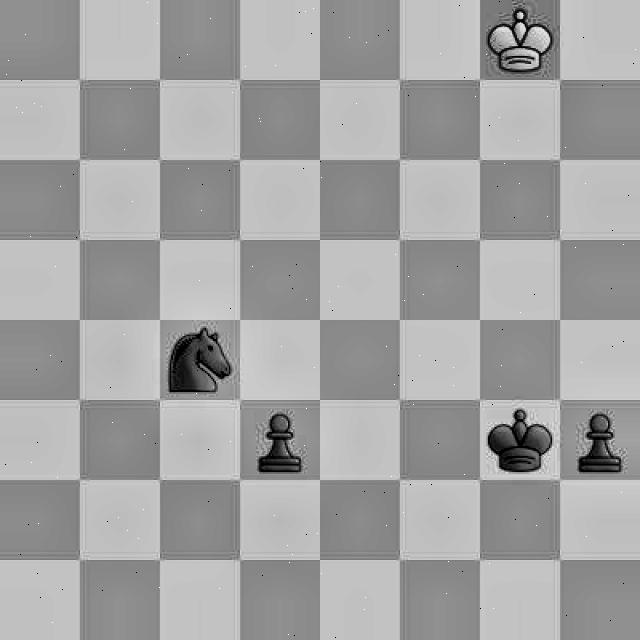Black Knight: (158, 320, 242, 401)
black king: (476, 402, 562, 482)
black pawn: (242, 400, 320, 478), (568, 408, 640, 473)
white king: (479, 0, 560, 80)
